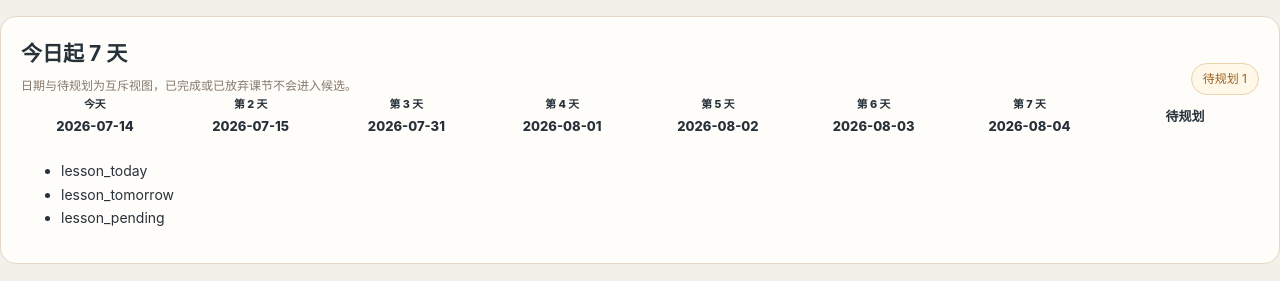
Test: planning date filter › [EQ-SCH-05] shows only the selected date and exposes unscheduled lessons under pending
Expected: the list item "lesson_today" is shown, [61,162,147,179]
Expected: the list item "lesson_tomorrow" is shown, [61,186,174,202]
Click the button "今天 2026-07-14" at (95, 116), box [21,95,169,137]
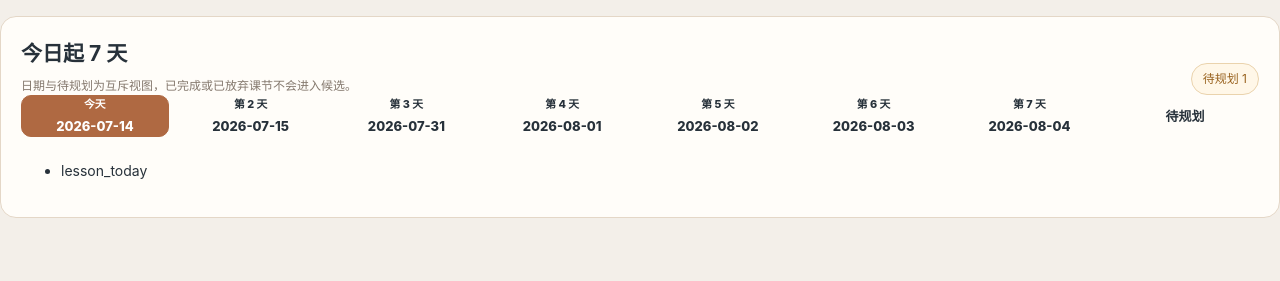
Expected: the list item "lesson_today" is shown, [61,162,147,179]
Now the list item "lesson_tomorrow" is gone
Click the button "待规划" at (1185, 116), box [1111,95,1259,137]
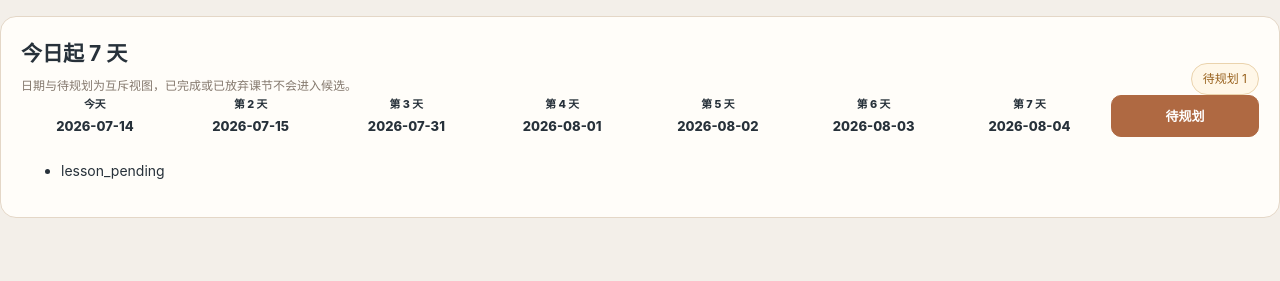
Now the list item "lesson_pending" is shown, box [61,162,165,179]
Now the list item "lesson_today" is gone
